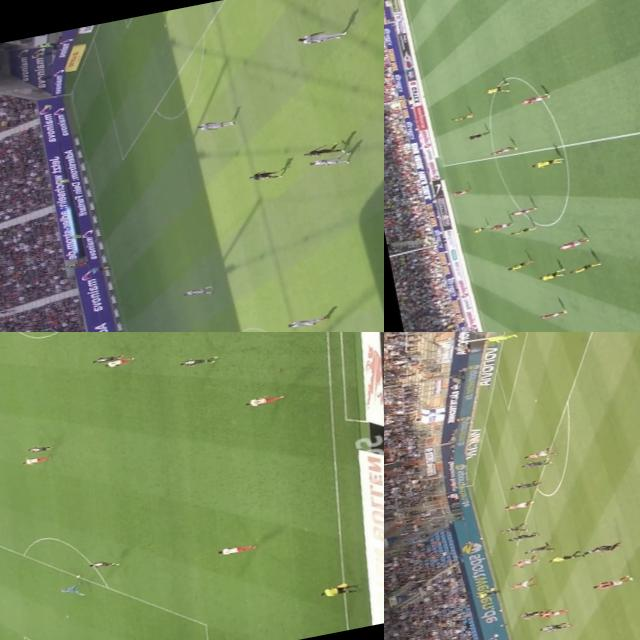ball: (490, 633, 500, 639), (73, 574, 82, 580)
player: (293, 27, 350, 48), (241, 390, 288, 410), (588, 572, 634, 590), (192, 115, 235, 134), (300, 144, 347, 161), (304, 153, 348, 171), (54, 580, 90, 602), (216, 540, 260, 557), (240, 166, 281, 184), (507, 554, 543, 572), (178, 354, 220, 369), (581, 543, 625, 557), (504, 479, 544, 494), (286, 316, 326, 330), (20, 452, 55, 468), (520, 543, 557, 558), (102, 355, 138, 370), (517, 90, 550, 106), (503, 258, 538, 273), (527, 156, 564, 170), (566, 262, 602, 276), (88, 557, 123, 571), (506, 578, 541, 592), (522, 448, 556, 462), (553, 237, 588, 250), (536, 269, 568, 283), (536, 622, 572, 634), (500, 500, 536, 512), (538, 607, 572, 619), (27, 442, 58, 455), (180, 286, 213, 298), (91, 354, 121, 367), (486, 144, 518, 156), (536, 309, 568, 321), (482, 334, 516, 345), (518, 608, 548, 620), (506, 532, 536, 544), (519, 460, 553, 470), (445, 113, 475, 124), (508, 206, 538, 217), (482, 85, 511, 96), (486, 221, 514, 232), (509, 226, 536, 237), (497, 526, 525, 535), (451, 188, 472, 198), (468, 227, 487, 234)
